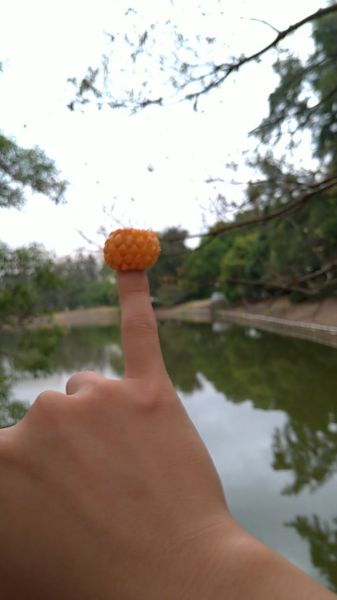eggs: (104, 229, 159, 272)
